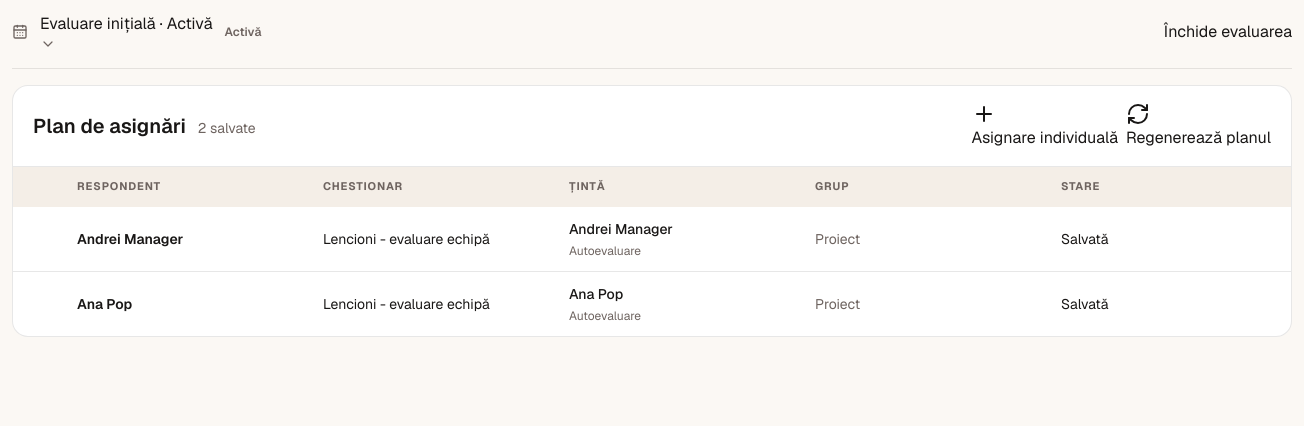
Test: buildInvitationRows › confirms cancellation of unfinished assignments before forcing cycle close
Click the button "Închide evaluarea" at {"x": 1228, "y": 32}, box [1164,20,1292,44]
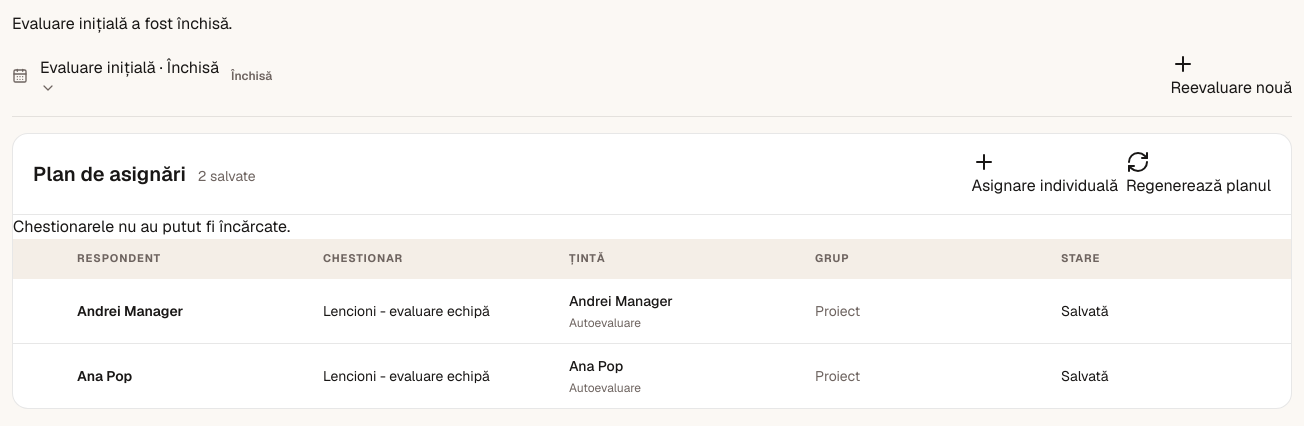
expect the text "Evaluare inițială a fost închisă." is shown: met, box [12,13,232,34]
